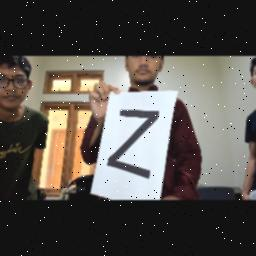z: (106, 102, 160, 182)
